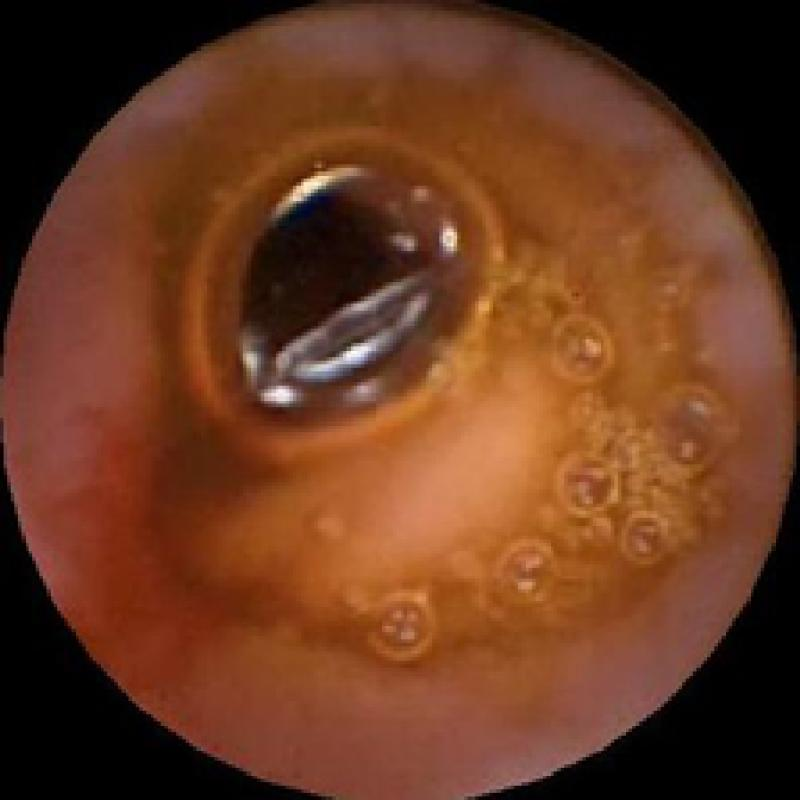bleeding: (150, 146, 354, 686)
